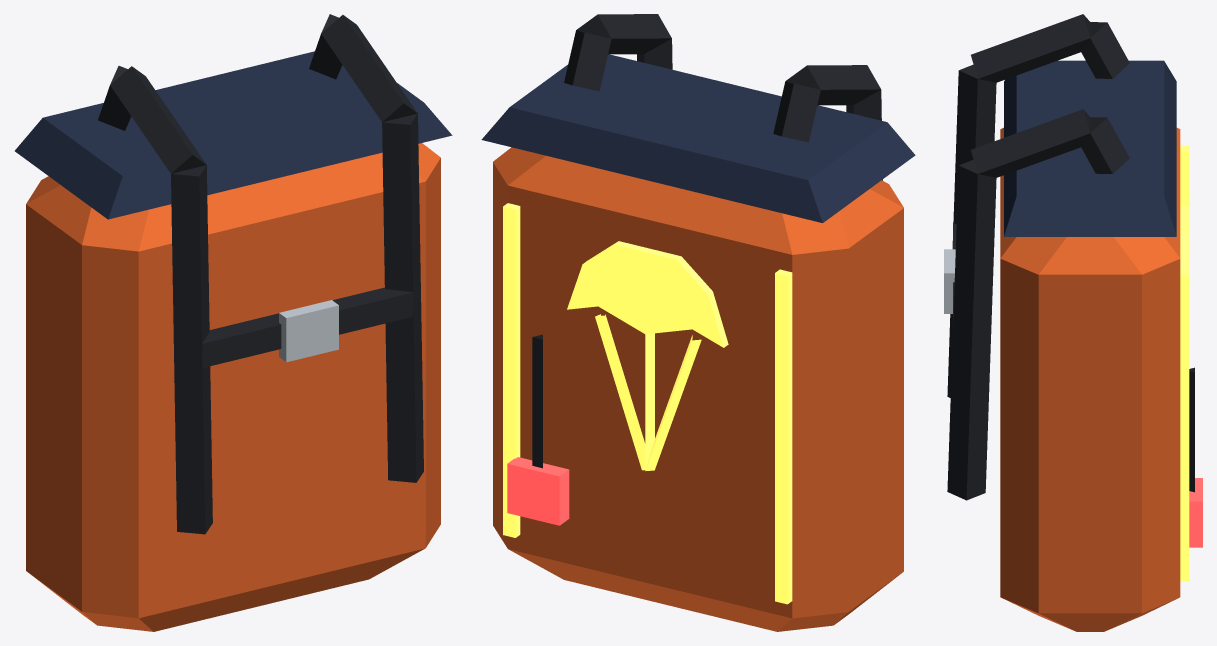
Rendered from pickup_parachute.glb.
3 views of the same model, side by side, from view 1: azimuth 30°, elevation 25°; view 2: azimuth 150°, elevation 25°; view 3: azimuth 270°, elevation 25° (orthographic). The views are drawn at different scales.
Visible parts, largest first — view 1: Body; view 2: Body; view 3: Body.
Boxes of the visible parts, x1,y1,x2,y2 form: Body: [15, 14, 452, 631]; Body: [481, 14, 915, 631]; Body: [944, 14, 1202, 631].
Size of the model in its own units: 0.34 by 0.4958 by 0.23.
